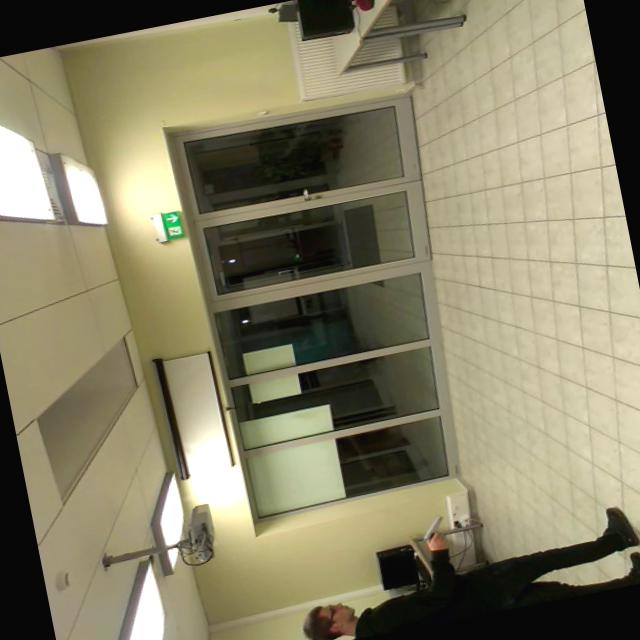handgun: (409, 508, 459, 550)
